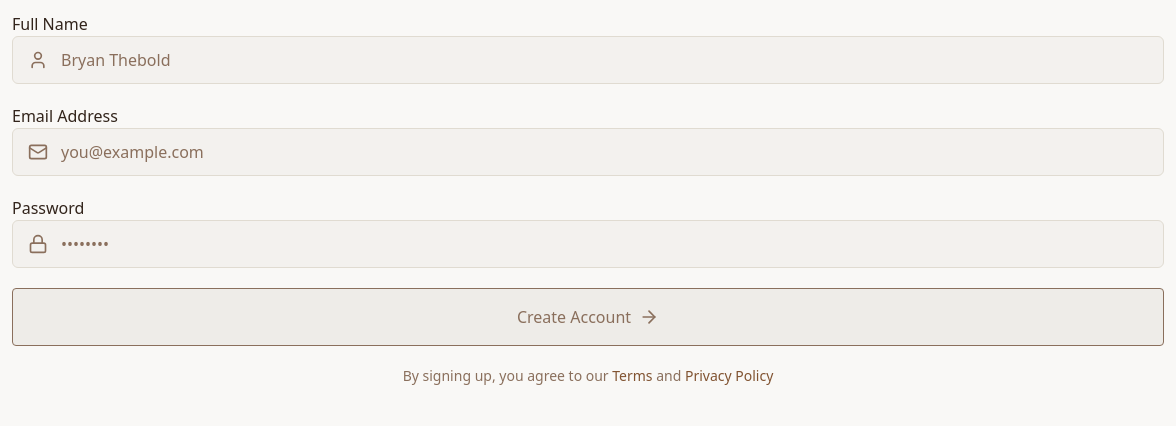
Test: SignUpForm › shows error for invalid email
In the field labelled "Full Name": (588, 60) [12,36,1164,84], type "Daniel"
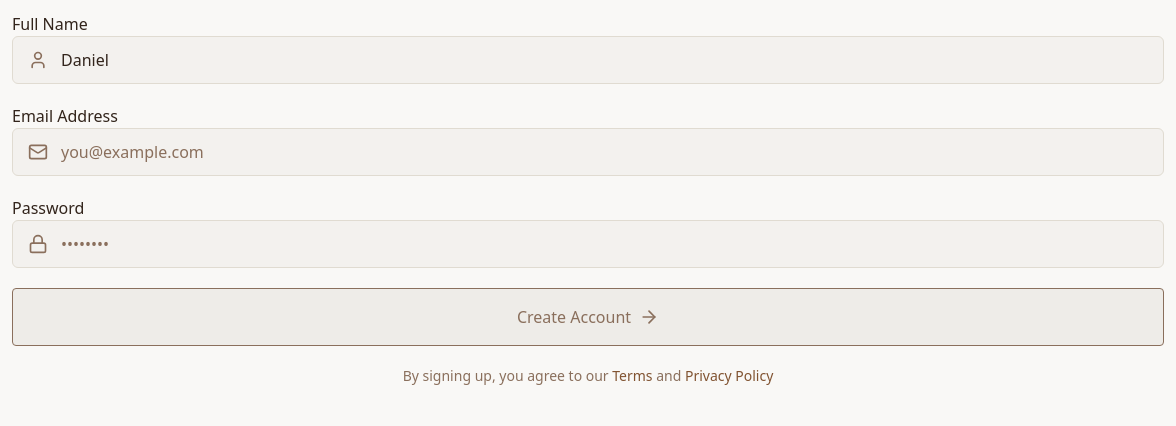
In the field labelled "Email Address": (588, 152) [12,128,1164,176], type "not-email"
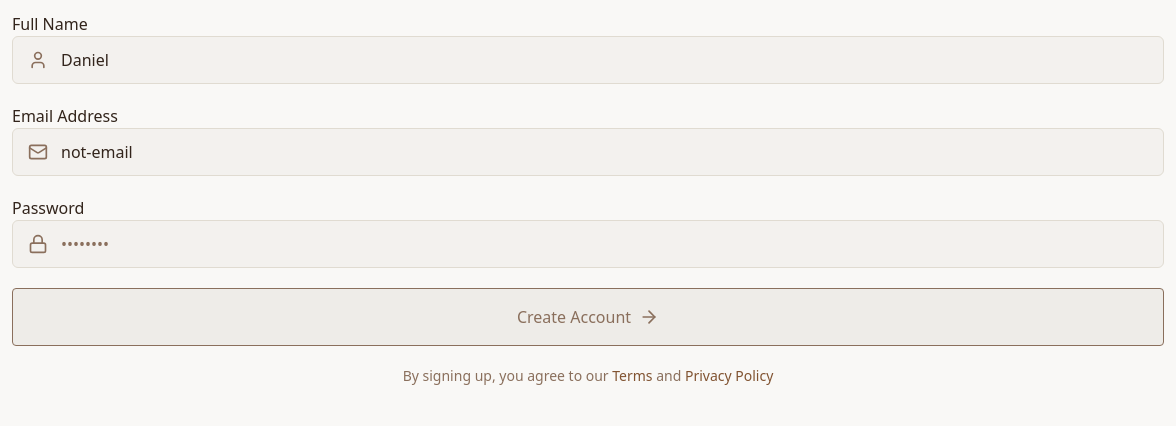
In the password field labelled "Password": (588, 244) [12,220,1164,268], type "Pass1234"
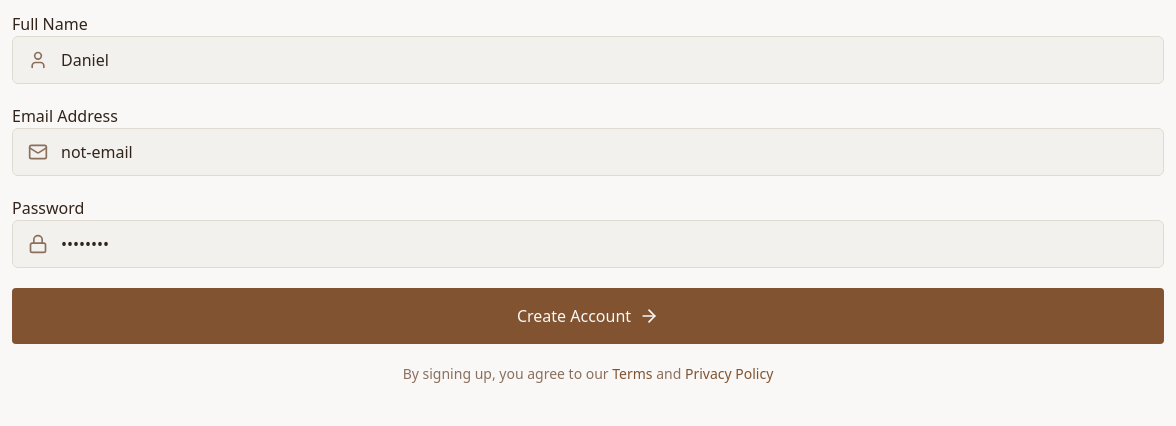
Submit the form labelled "Full Name"
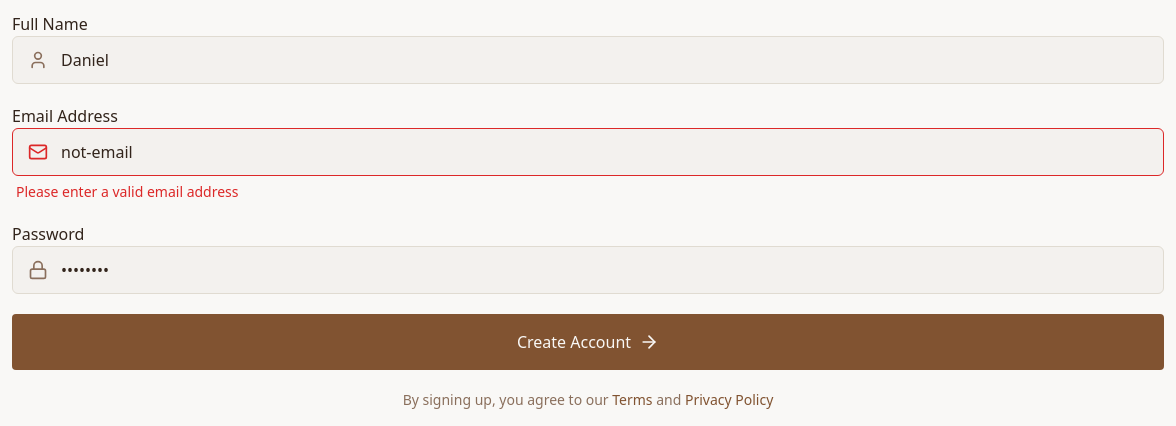
Result: the text "Please enter a valid email address" is shown at [16,182,238,201]
